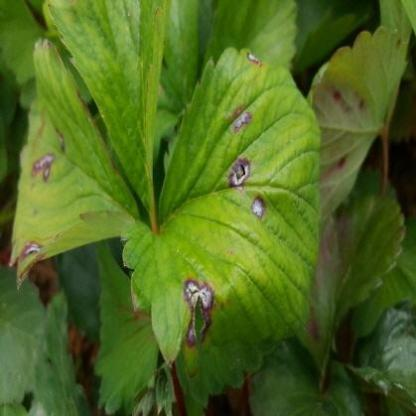Strawberry_Leaf_Spot: (119, 46, 322, 380), (9, 37, 141, 290), (304, 24, 410, 228)
